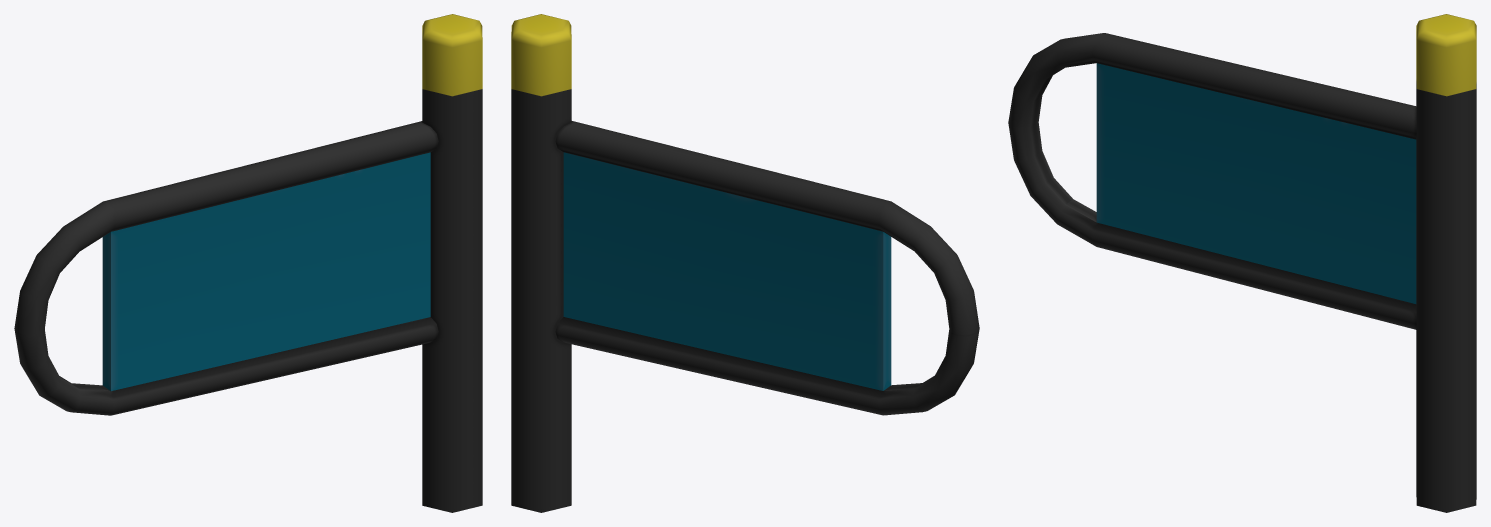
File: GateSensor.fbx
The picture shows the model from 3 angles, left to right: view 1: azimuth 30°, elevation 25°; view 2: azimuth 150°, elevation 25°; view 3: azimuth 330°, elevation 25°; orthographic projection.
Visible parts, largest first — view 1: GateSensor; view 2: GateSensor; view 3: GateSensor.
Boxes of the visible parts, x1,y1,x2,y2 form: GateSensor: (14,14,482,512); GateSensor: (511,14,979,512); GateSensor: (1008,14,1476,512).
Size of the model in its own units: 126 by 122 by 13.99.
